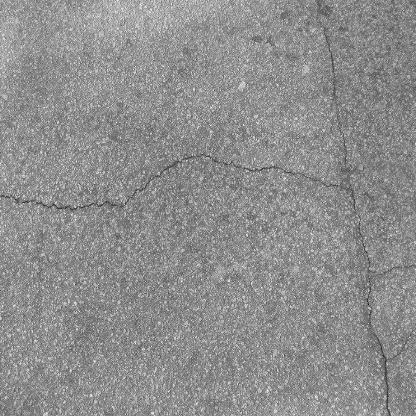Cracks: (0, 0, 416, 396), (383, 399, 401, 416)
